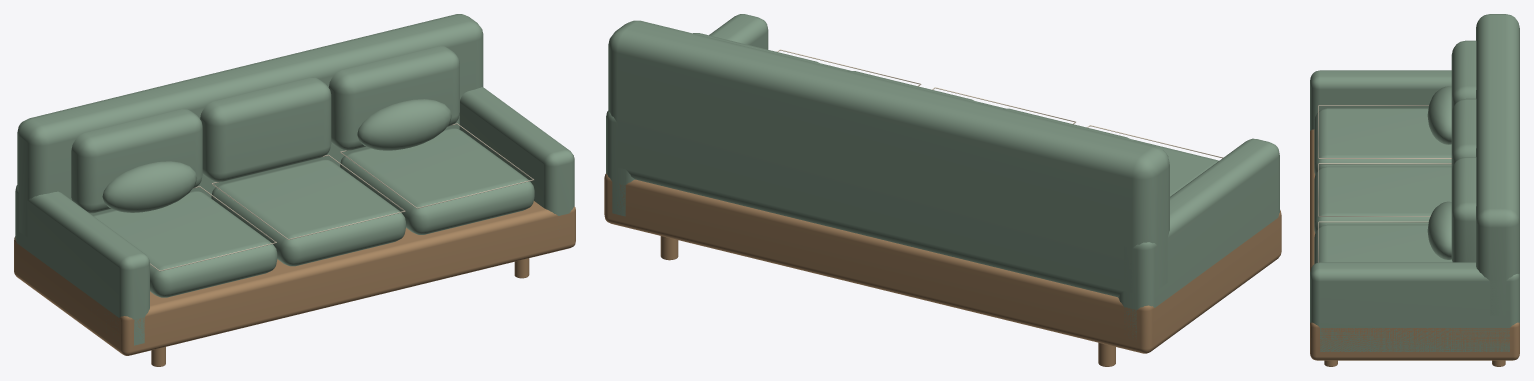
3 renders of one model, left to right at view 1: azimuth 30°, elevation 25°; view 2: azimuth 150°, elevation 25°; view 3: azimuth 270°, elevation 25°, orthographic. The views are drawn at different scales.
Parts seen in each view (by area): view 1: base, back, seat_1, seat_2, seat_0, cushion_1, arm_-1, cushion_0, cushion_2, arm_1, pillow_-1, pillow_1 (+2 smaller); view 2: back, base, arm_-1, arm_1, seat_0; view 3: arm_1, back, seat_1, base, seat_0, arm_-1, seat_2, cushion_2, cushion_0, cushion_1, pillow_-1, pillow_1 (+3 smaller).
Part boxes in pixels (x1,y1,x2,y2): base: [14, 201, 575, 355]; back: [17, 14, 483, 237]; seat_1: [211, 159, 405, 266]; seat_2: [340, 128, 534, 234]; seat_0: [93, 191, 277, 297]; cushion_1: [200, 77, 331, 181]; arm_-1: [15, 185, 149, 345]; cushion_0: [71, 109, 202, 213]; cushion_2: [328, 46, 459, 150]; arm_1: [459, 87, 574, 215]; pillow_-1: [102, 161, 196, 212]; pillow_1: [357, 99, 451, 150]; back: [608, 20, 1169, 297]; base: [604, 173, 1281, 353]; arm_-1: [1118, 138, 1279, 338]; arm_1: [606, 14, 768, 216]; seat_0: [1131, 139, 1218, 196]; arm_1: [1310, 262, 1519, 351]; back: [1476, 14, 1519, 315]; seat_1: [1314, 166, 1451, 233]; base: [1310, 129, 1519, 360]; seat_0: [1314, 108, 1451, 175]; arm_-1: [1310, 70, 1451, 130]; seat_2: [1314, 224, 1452, 263]; cushion_2: [1451, 157, 1476, 262]; cushion_0: [1451, 40, 1476, 112]; cushion_1: [1451, 98, 1476, 170]; pillow_-1: [1427, 86, 1451, 144]; pillow_1: [1427, 201, 1451, 259].
Bounding box in the file's own units: 2.2 × 0.85 × 0.95.
